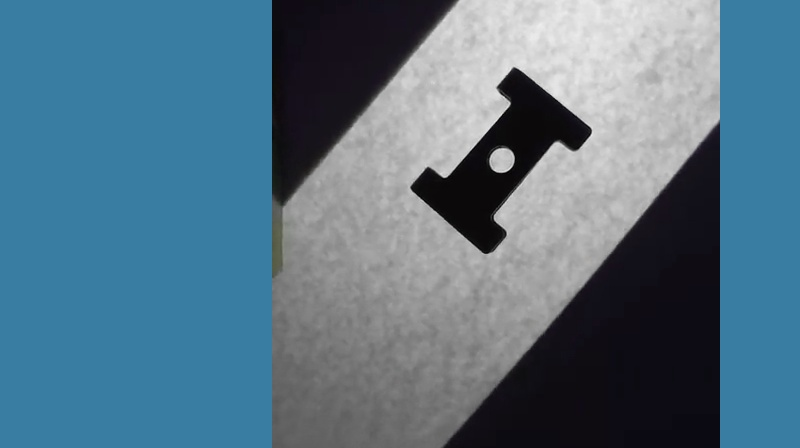O002: (407, 65, 596, 256)
